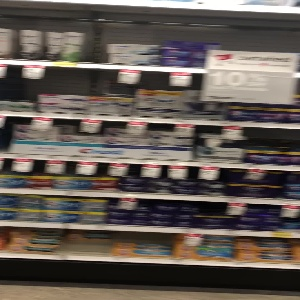void: (57, 230, 110, 258), (78, 13, 108, 62)
